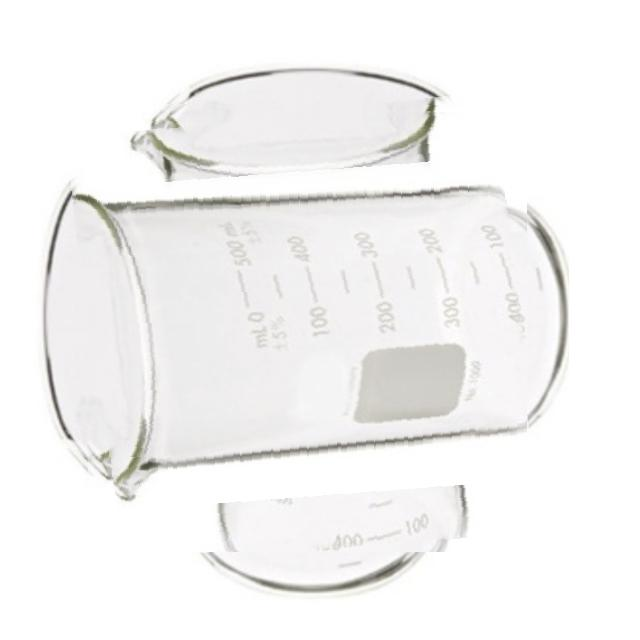recyclable: (77, 101, 527, 552)
